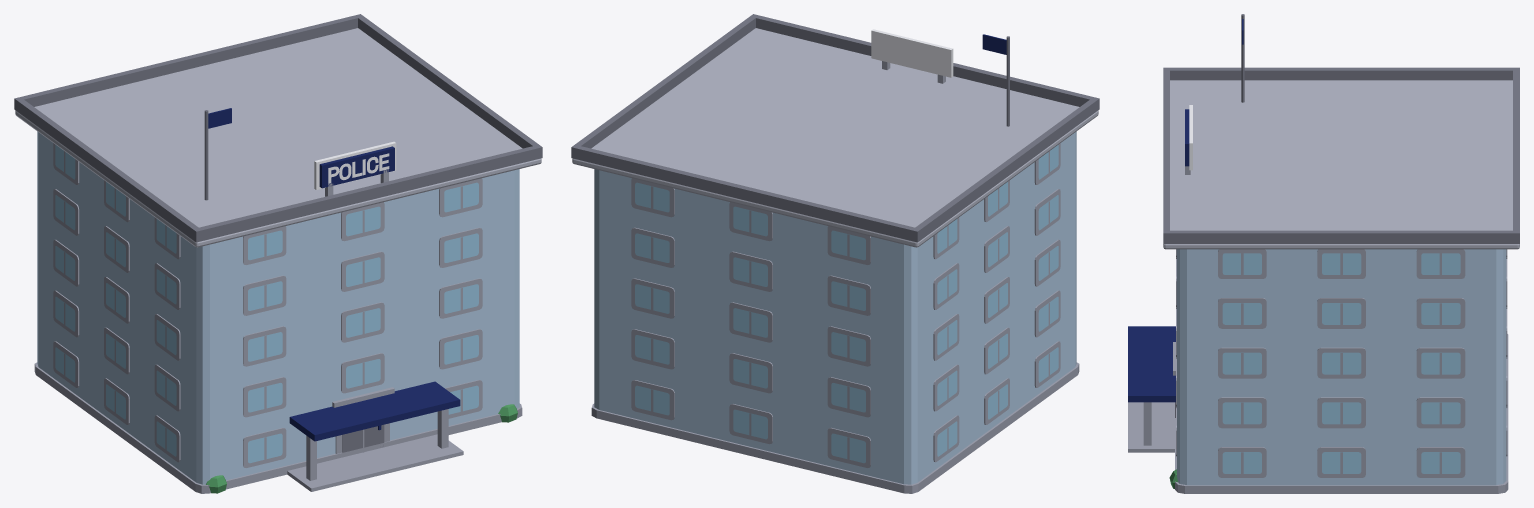
The model's file is police-station-2x2-5f.glb.
The picture shows the model from 3 angles, left to right: view 1: azimuth 30°, elevation 25°; view 2: azimuth 150°, elevation 25°; view 3: azimuth 270°, elevation 25°; orthographic projection. The views are drawn at different scales.
Visible parts, largest first — view 1: police-station-2x2-5f; view 2: police-station-2x2-5f; view 3: police-station-2x2-5f.
Boxes of the visible parts, x1,y1,x2,y2 form: police-station-2x2-5f: [14, 14, 542, 493]; police-station-2x2-5f: [571, 14, 1099, 493]; police-station-2x2-5f: [1128, 14, 1519, 493].
Bounding box in the file's own units: 2 × 1.93 × 2.
Materials: 1 (1 with a texture image).
